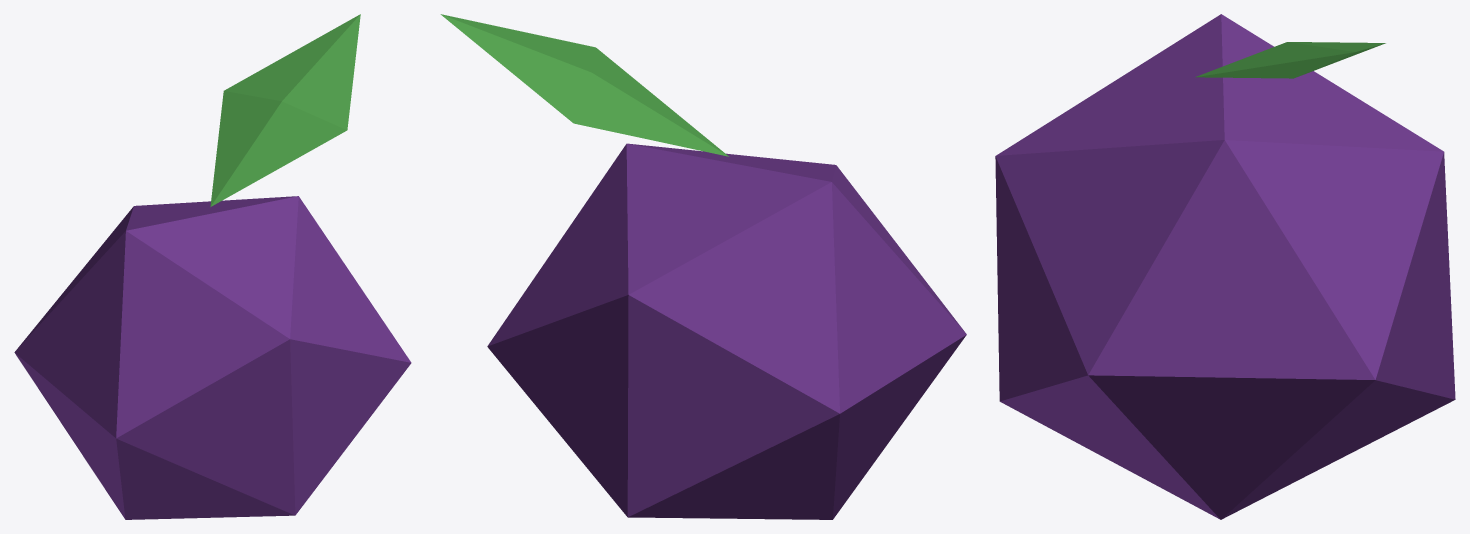
The model's file is food_berry_b.obj.
3 renders of one model, left to right at view 1: azimuth 30°, elevation 25°; view 2: azimuth 150°, elevation 25°; view 3: azimuth 270°, elevation 25°, orthographic. The views are drawn at different scales.
Visible parts, largest first — view 1: food_berry_b; view 2: food_berry_b; view 3: food_berry_b.
Boxes of the visible parts, x1,y1,x2,y2 form: food_berry_b: (14, 14, 411, 519); food_berry_b: (440, 14, 966, 519); food_berry_b: (995, 14, 1455, 519).
Size of the model in its own units: 0.7244 by 0.8026 by 0.6179.
